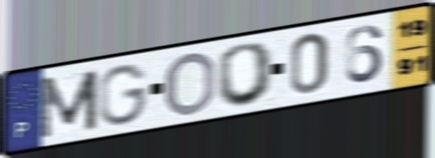0: (288, 30, 332, 98)
6: (344, 24, 387, 86)
G: (96, 62, 151, 128)
M: (36, 67, 101, 141)
O: (214, 40, 277, 109), (162, 50, 218, 118)
